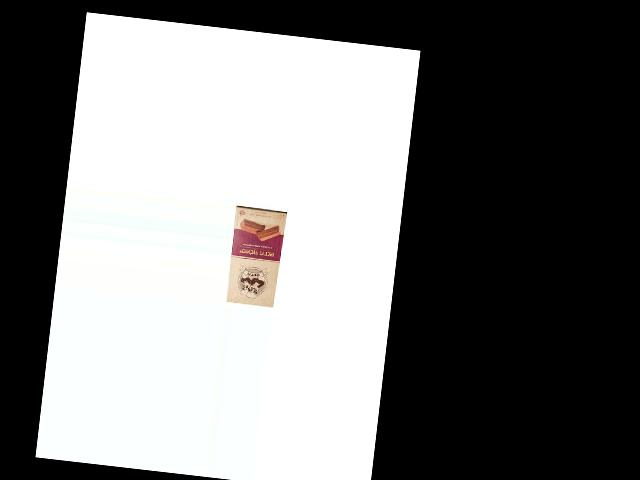chocolate: (226, 205, 288, 308)
